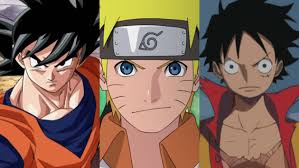Luffy: (210, 3, 292, 100)
Naruto: (100, 1, 202, 133)
Songoku: (11, 4, 89, 92)
